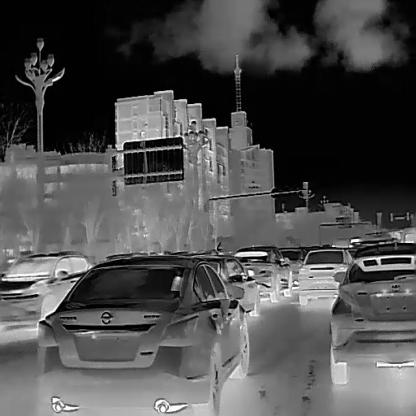car: (35, 253, 251, 415), (328, 243, 416, 384), (0, 247, 87, 336), (202, 252, 260, 318), (235, 241, 292, 303), (295, 247, 354, 304)
